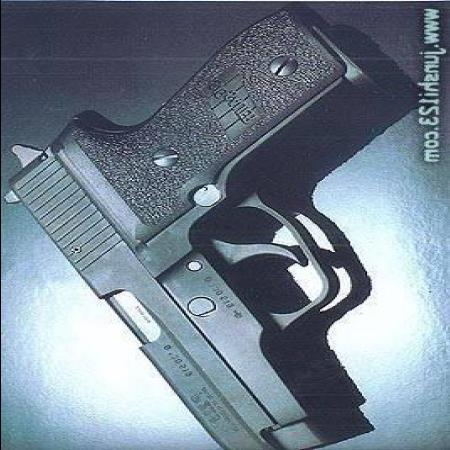Pistol: (2, 1, 383, 449)
